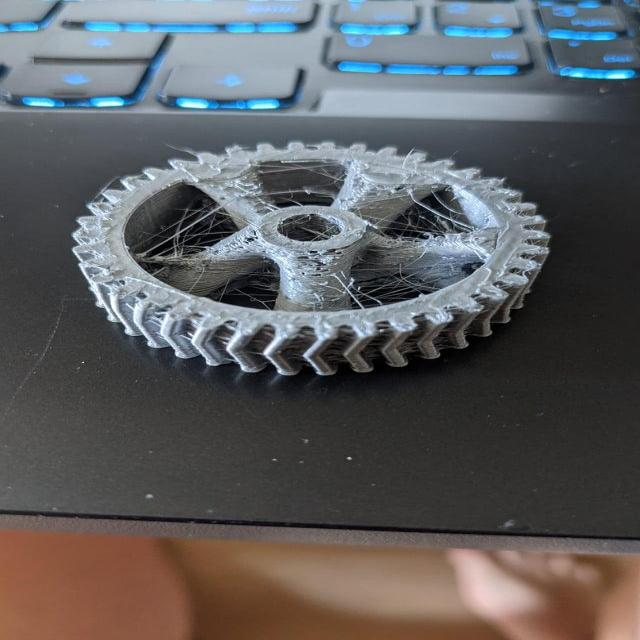Stringing: (145, 156, 490, 308)
